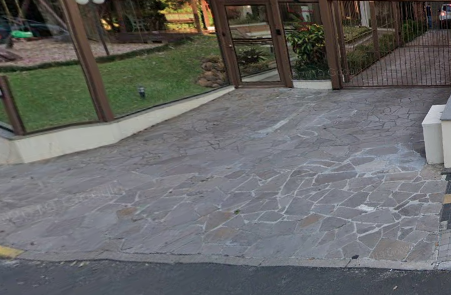vag71: (44, 227, 416, 295)
